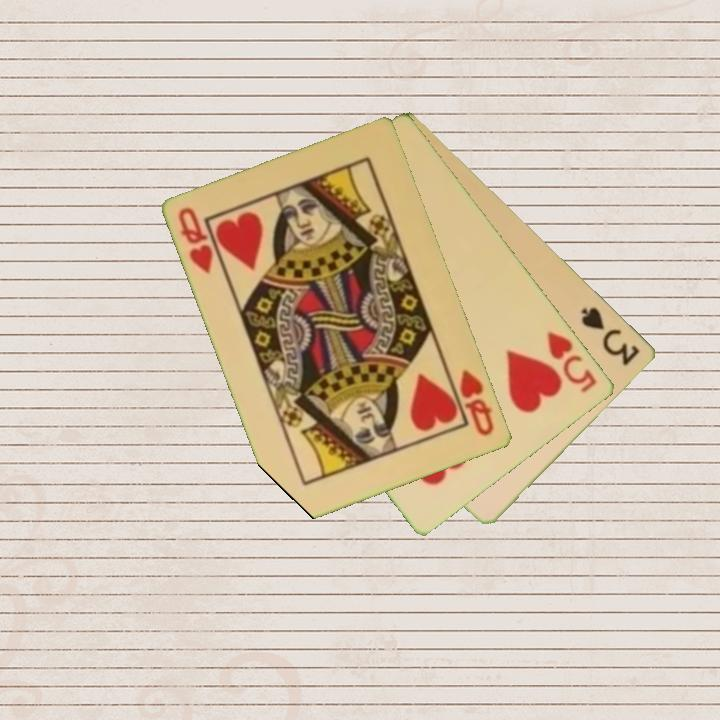3s: (578, 303, 643, 369)
5h: (543, 328, 601, 396)
Qh: (456, 366, 498, 439), (175, 204, 217, 277)
